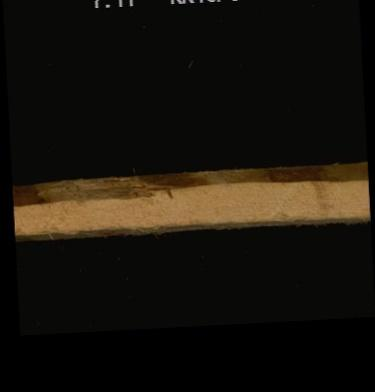wave: (12, 166, 367, 199), (14, 215, 368, 236)
